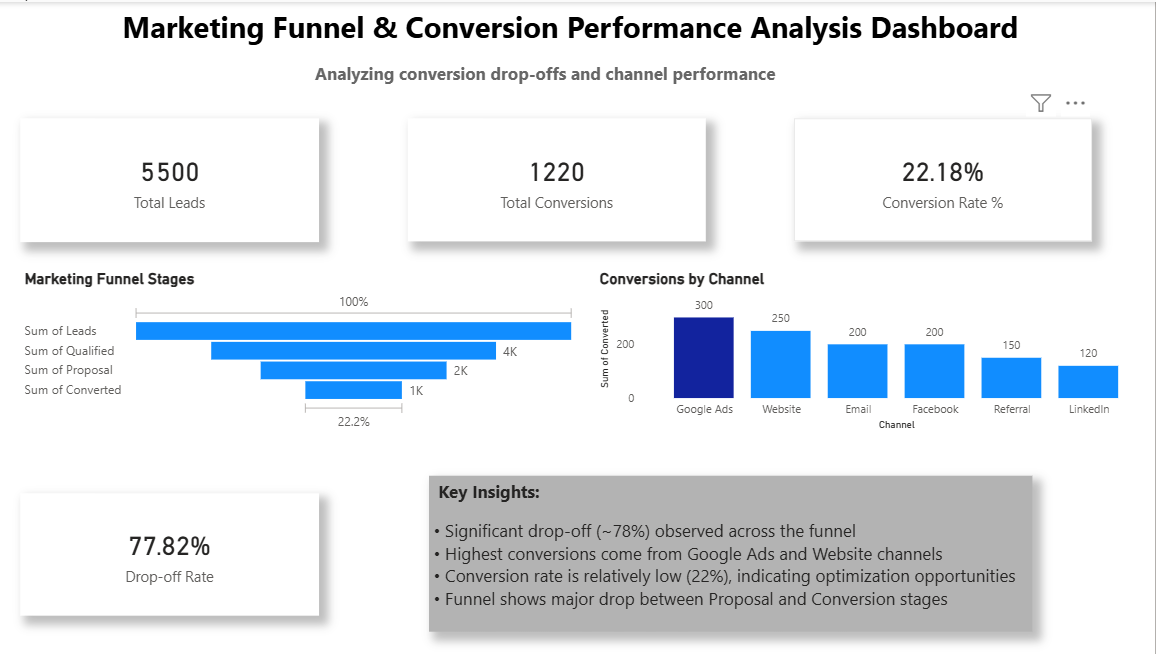

Layout of this report page (visuals, bound fields, positions):
{"tool":"powerbi","page":{"name":"Page 1","canvas":[1280,720],"ordinal":0},"visuals":[{"type":"card","fields":{"Values":["Sum(marketing_funnel_dataset.Leads)"]},"box":[34.3,127.6,328,135.8],"z":0},{"type":"card","fields":{"Values":["Sum(marketing_funnel_dataset.Converted)"]},"box":[459.5,127.6,327,135],"z":1000},{"type":"card","fields":{"Values":["marketing_funnel_dataset.Conversion Rate %"]},"box":[883.7,127.6,327,135],"z":2000},{"type":"textbox","box":[34.3,0,1181.5,60.4],"z":3000},{"type":"textbox","box":[20.6,60.4,1180.1,41.2],"z":4000},{"type":"funnel","title":"Marketing Funnel Stages","fields":{"Y":["Sum(marketing_funnel_dataset.Leads)","Sum(marketing_funnel_dataset.Qualified)","Sum(marketing_funnel_dataset.Proposal)","Sum(marketing_funnel_dataset.Converted)"]},"box":[34.3,293.7,615,181.1],"z":5000},{"type":"clusteredColumnChart","title":"Conversions by Channel","fields":{"Category":["marketing_funnel_dataset.Channel"],"Y":["Sum(marketing_funnel_dataset.Converted)"]},"box":[665.5,293.7,615,181.1],"z":6000},{"type":"card","fields":{"Values":["marketing_funnel_dataset.Drop-off Rate"]},"box":[34.3,539.3,328,134.5],"z":7000},{"type":"textbox","box":[483,520.1,662.8,171.5],"z":8000}]}

Visuals, with their boxes in screenshot pixels (x1, y1, x2, y2), scaled from the page's 1280x720 canvas onto the 1156x654 screenshot:
card - Sum(marketing_funnel_dataset.Leads): 31 116 327 239
card - Sum(marketing_funnel_dataset.Converted): 415 116 710 239
card - marketing_funnel_dataset.Conversion Rate %: 798 116 1093 239
textbox: 31 0 1098 55
textbox: 19 55 1084 92
"Marketing Funnel Stages" funnel: 31 267 586 431
"Conversions by Channel" clusteredColumnChart: 601 267 1155 431
card - marketing_funnel_dataset.Drop-off Rate: 31 490 327 612
textbox: 436 472 1035 628
